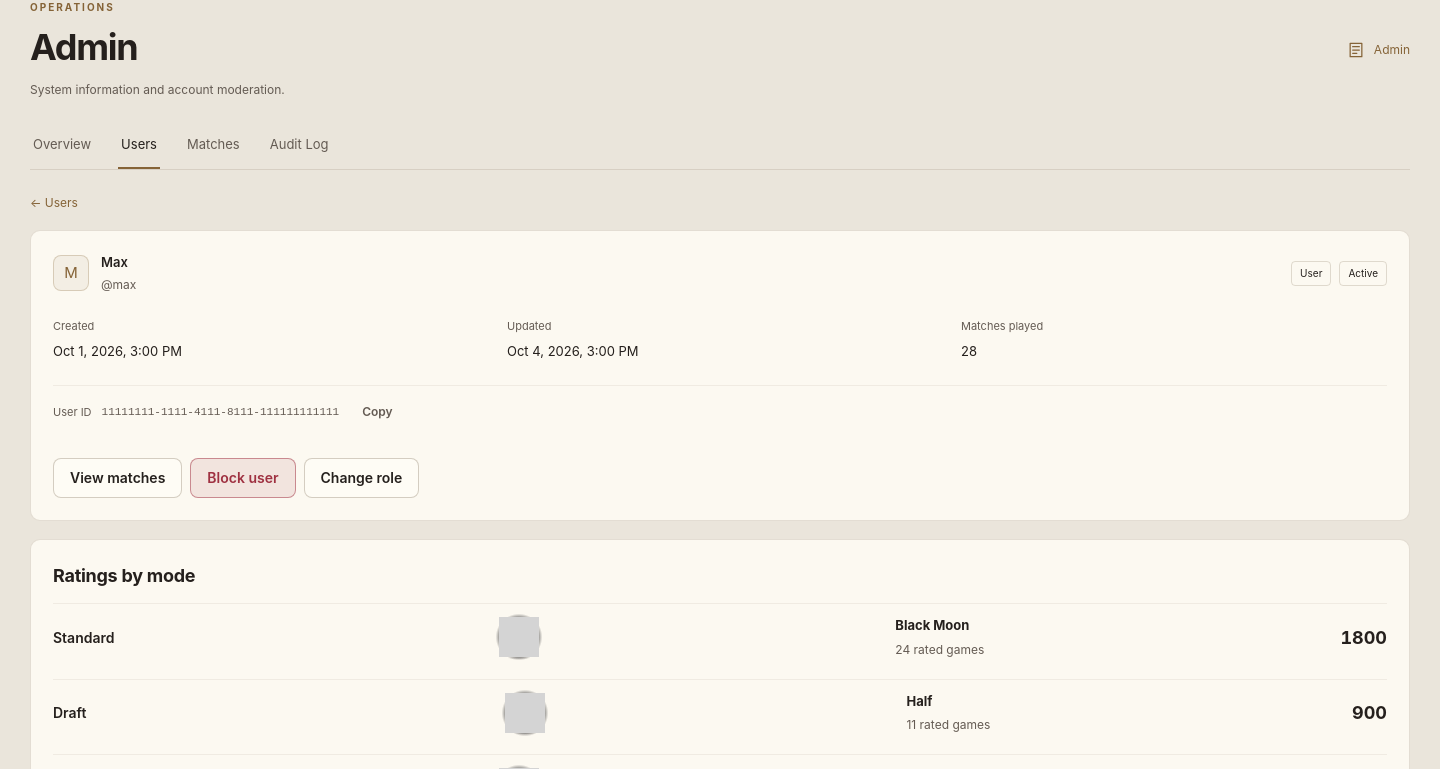
Test case: block confirmation sends reason and applies only the server-confirmed account
Click the button "Block user": (243, 478) [190,458,296,498]
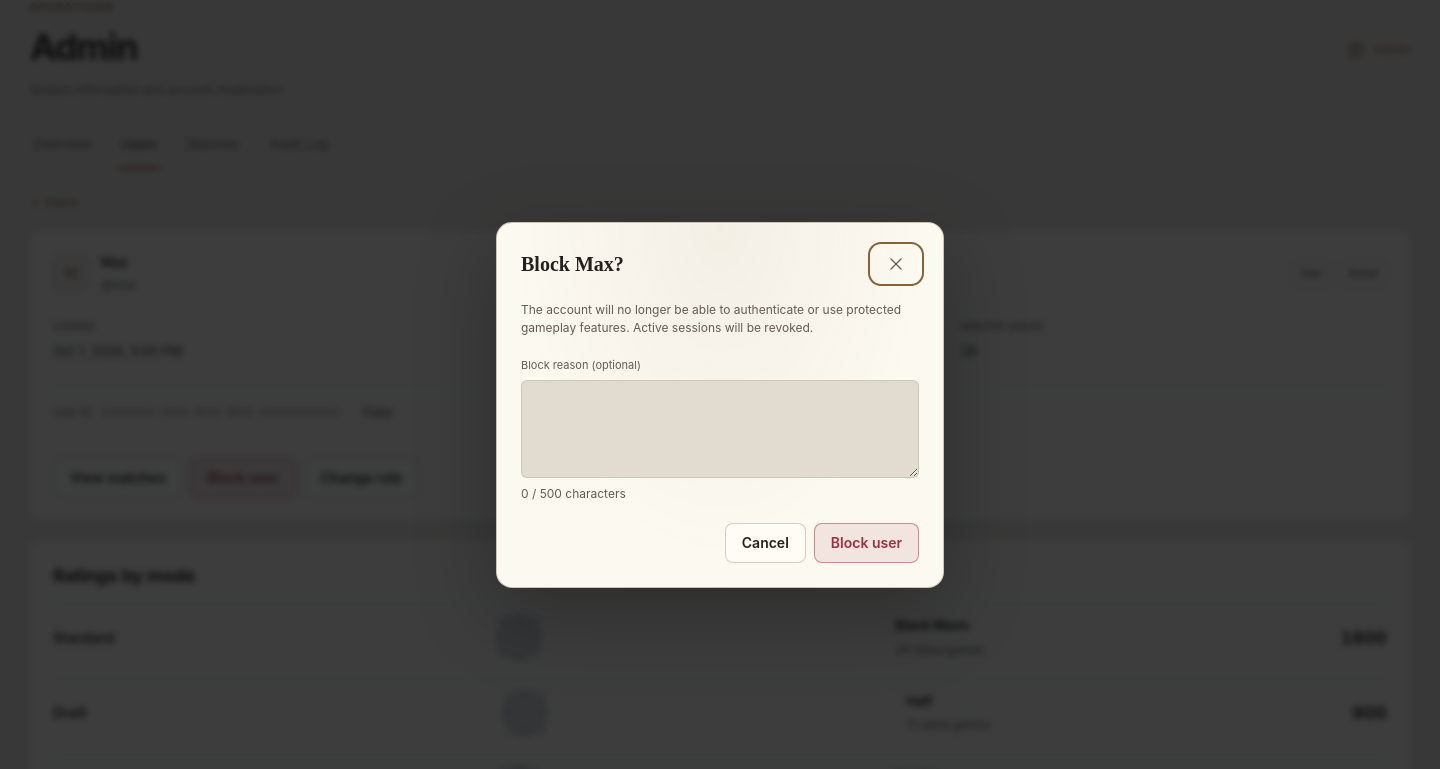
In the text box labelled "Block reason (optional) 0 / 500 characters": (720, 429) [521,380,919,478], type "  harassment  "
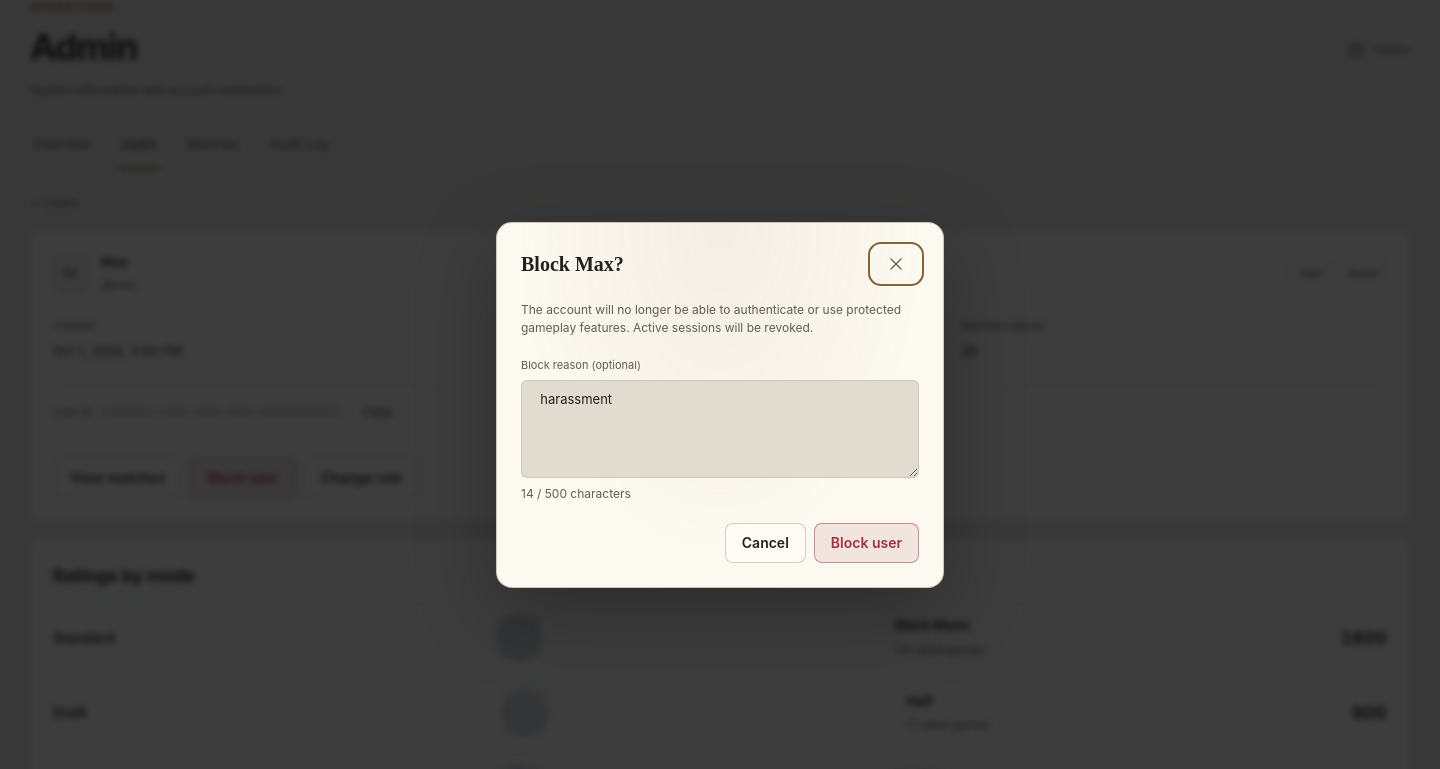
Submit the form, box [521,301,919,563]
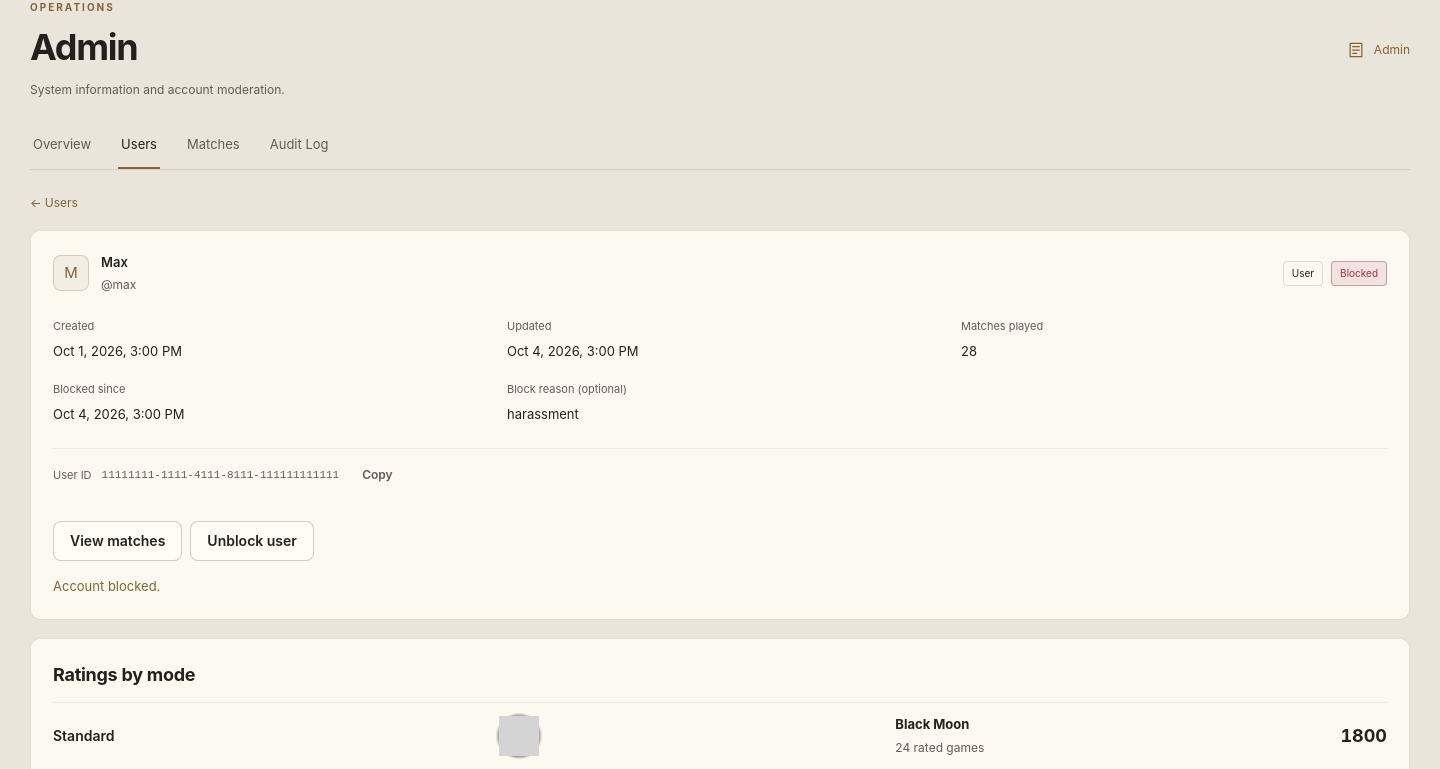
Check: the button "Unblock user" is shown, box [190,521,314,561]
Check: the text "harassment" is shown, box [507,406,579,422]
